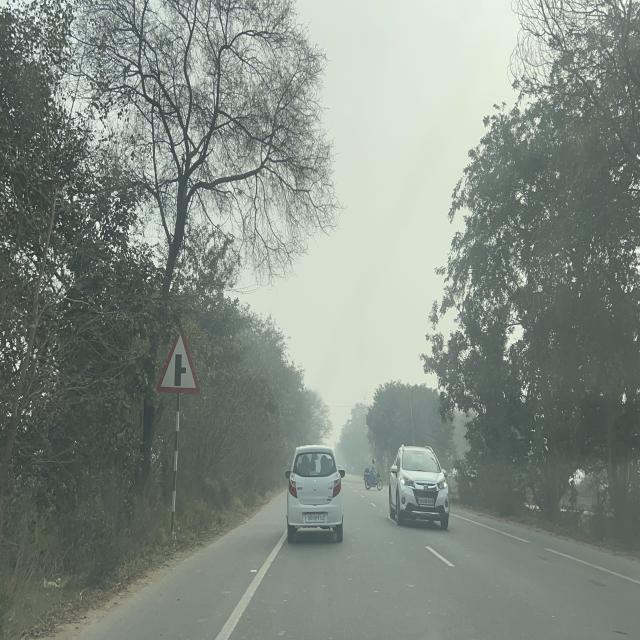SIDE_ROAD_RIGHT: (156, 326, 202, 394)
